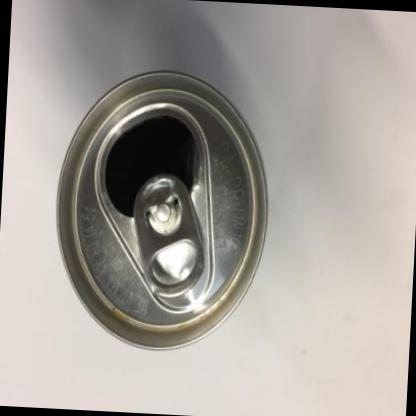Metal: (55, 70, 265, 349)
